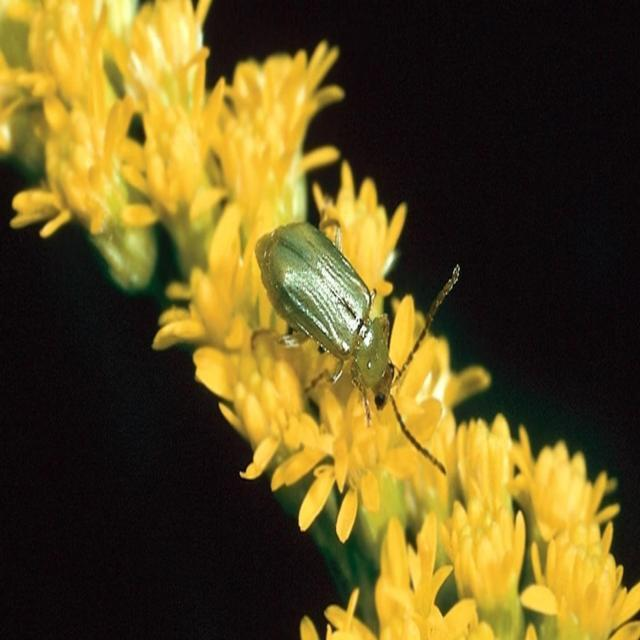gusano_gris: (249, 216, 459, 479)
